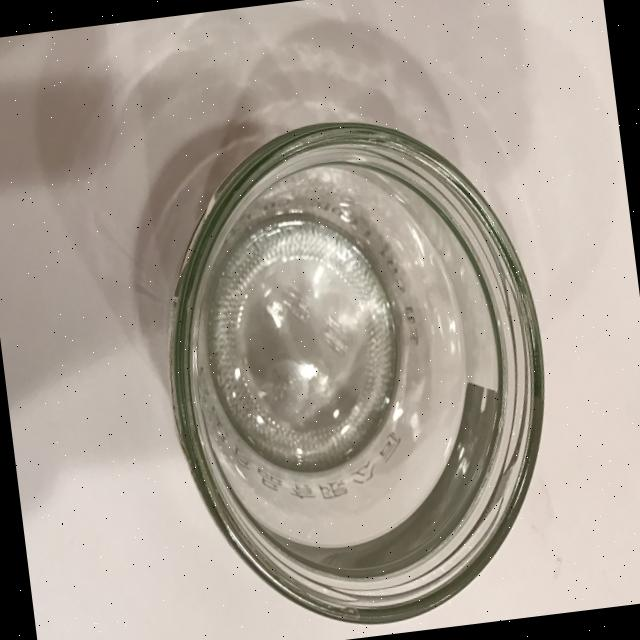glass: (138, 97, 573, 640)
